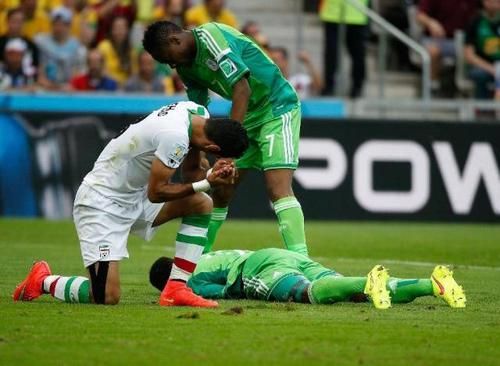10+: (1, 1, 496, 282)
down: (146, 245, 470, 316)
